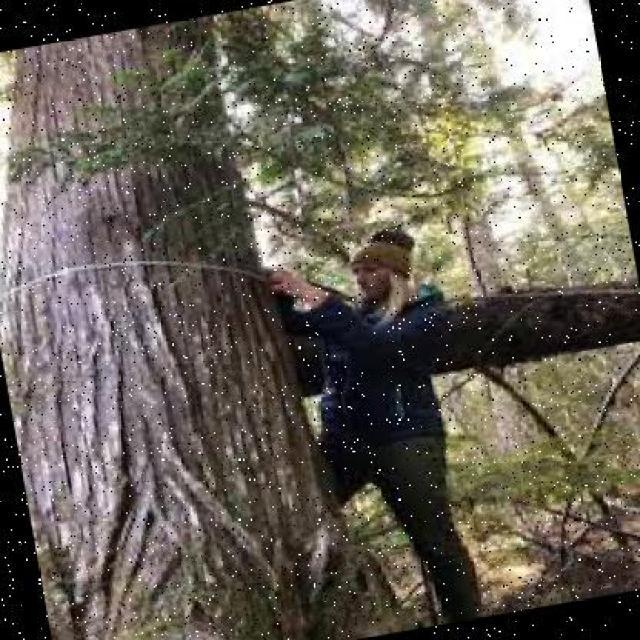poacher: (165, 204, 498, 562)
